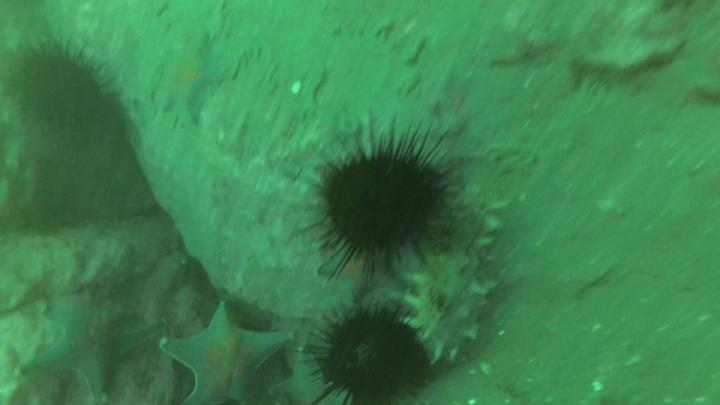echinus: (319, 154, 437, 256), (321, 313, 422, 404), (20, 53, 109, 141)
holothurian: (404, 189, 505, 360)
starfish: (161, 297, 297, 405), (23, 307, 164, 405), (154, 30, 223, 125)
